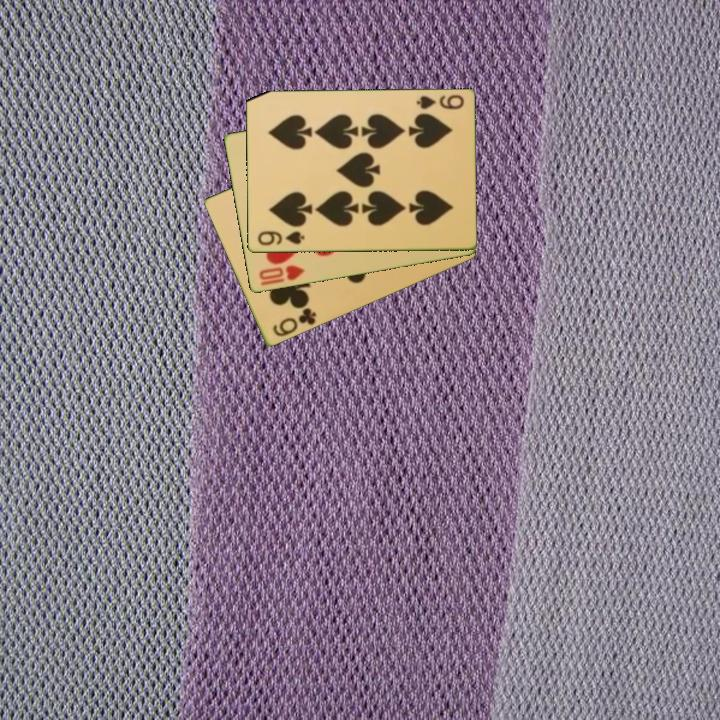10h: (255, 262, 307, 288)
6c: (269, 304, 319, 340)
9s: (413, 91, 467, 112), (254, 228, 307, 249)
